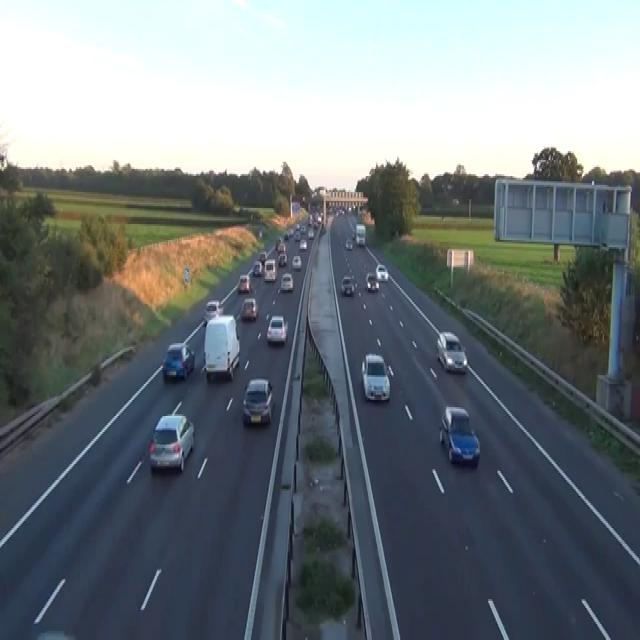Car: (148, 412, 194, 473), (439, 405, 480, 466), (242, 377, 274, 425), (361, 352, 390, 402), (436, 331, 467, 373), (162, 342, 195, 381), (266, 315, 288, 343), (203, 299, 223, 325), (240, 297, 258, 320), (35, 630, 77, 638), (365, 272, 379, 292), (308, 210, 323, 228), (340, 276, 354, 295), (375, 263, 388, 281), (280, 272, 293, 290), (237, 274, 250, 292), (252, 260, 262, 276), (278, 250, 287, 266), (291, 254, 301, 268), (275, 237, 284, 250), (345, 236, 352, 249), (299, 238, 307, 249), (259, 251, 266, 263), (277, 242, 285, 252), (294, 229, 300, 240), (308, 228, 314, 238), (317, 212, 323, 222), (300, 224, 306, 233), (313, 218, 318, 228), (452, 198, 459, 205), (288, 228, 294, 236), (283, 231, 288, 240), (321, 224, 326, 233), (308, 213, 312, 224), (258, 228, 262, 238), (295, 222, 300, 230)
Truck: (203, 314, 240, 380), (264, 258, 276, 281), (355, 222, 365, 245)
